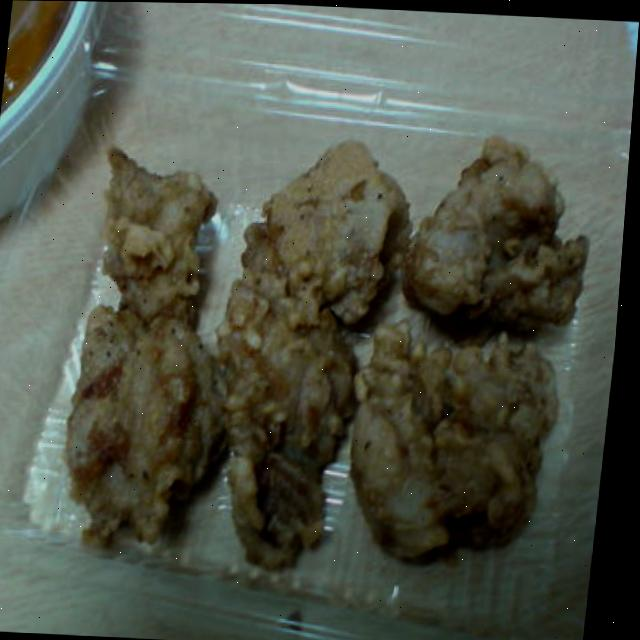鸡肉料理 含炸鸡: (36, 135, 611, 586)
